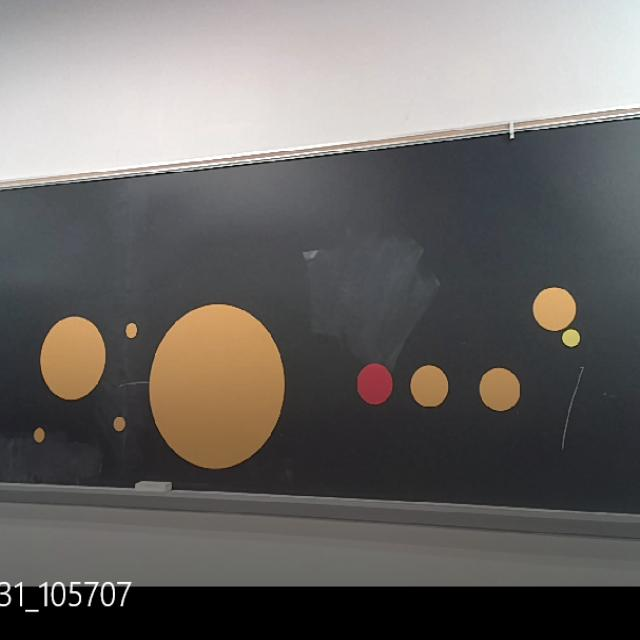Orange: (148, 304, 285, 469), (40, 316, 106, 400), (532, 287, 576, 330), (480, 367, 520, 411), (411, 364, 448, 408), (125, 322, 137, 338), (33, 428, 45, 442), (114, 416, 125, 431)
Red: (356, 363, 394, 405)
Yellow: (562, 329, 580, 346)
